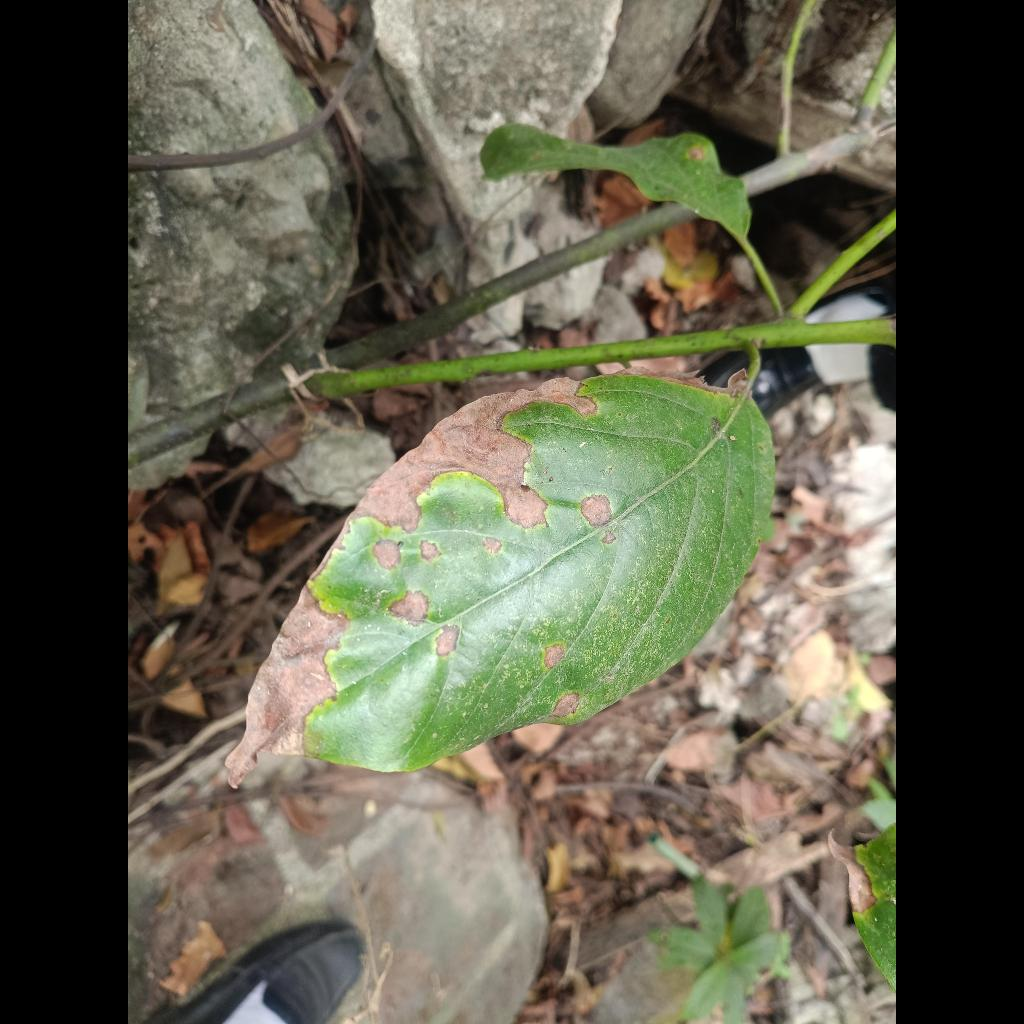Anthracnose: (238, 375, 774, 772)
